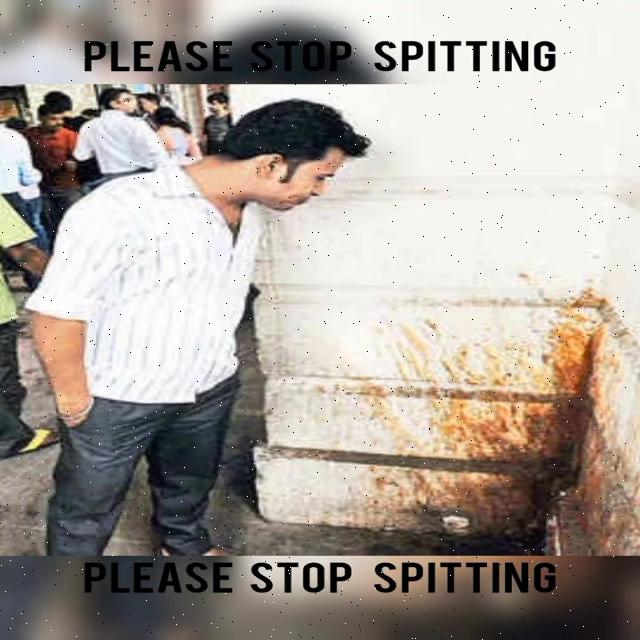spit: (255, 145, 639, 556)
